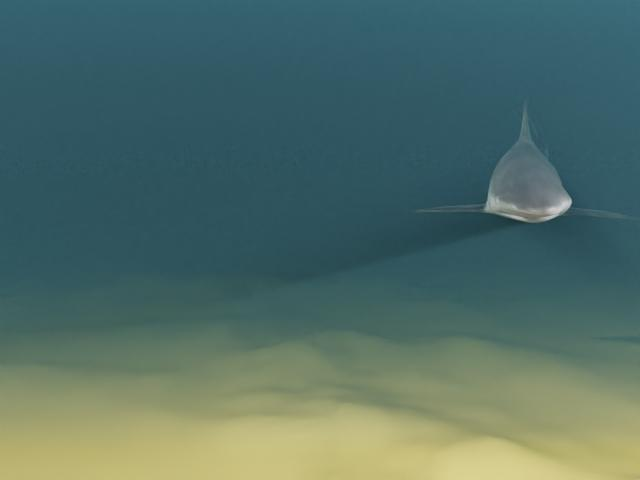Carribean Shark.001: (409, 99, 639, 222)
